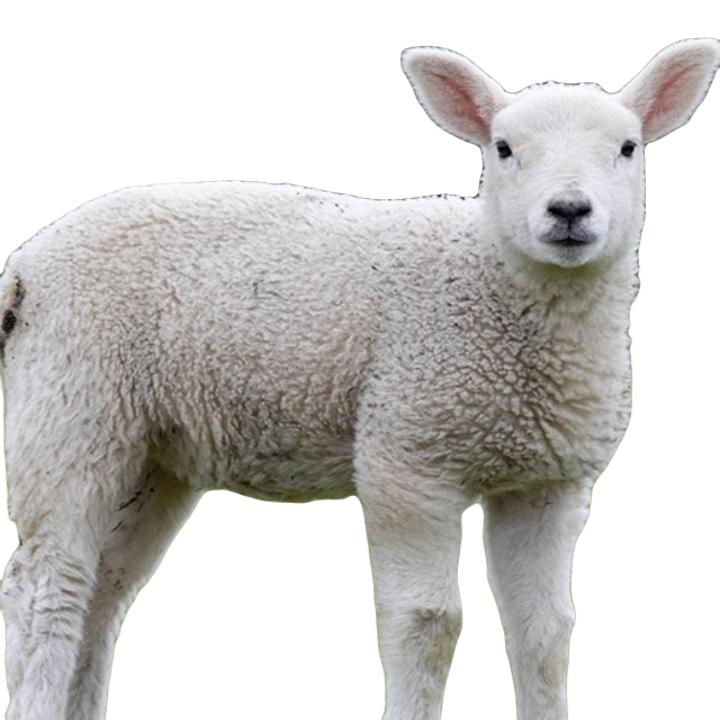Sheep: (0, 40, 719, 719)
